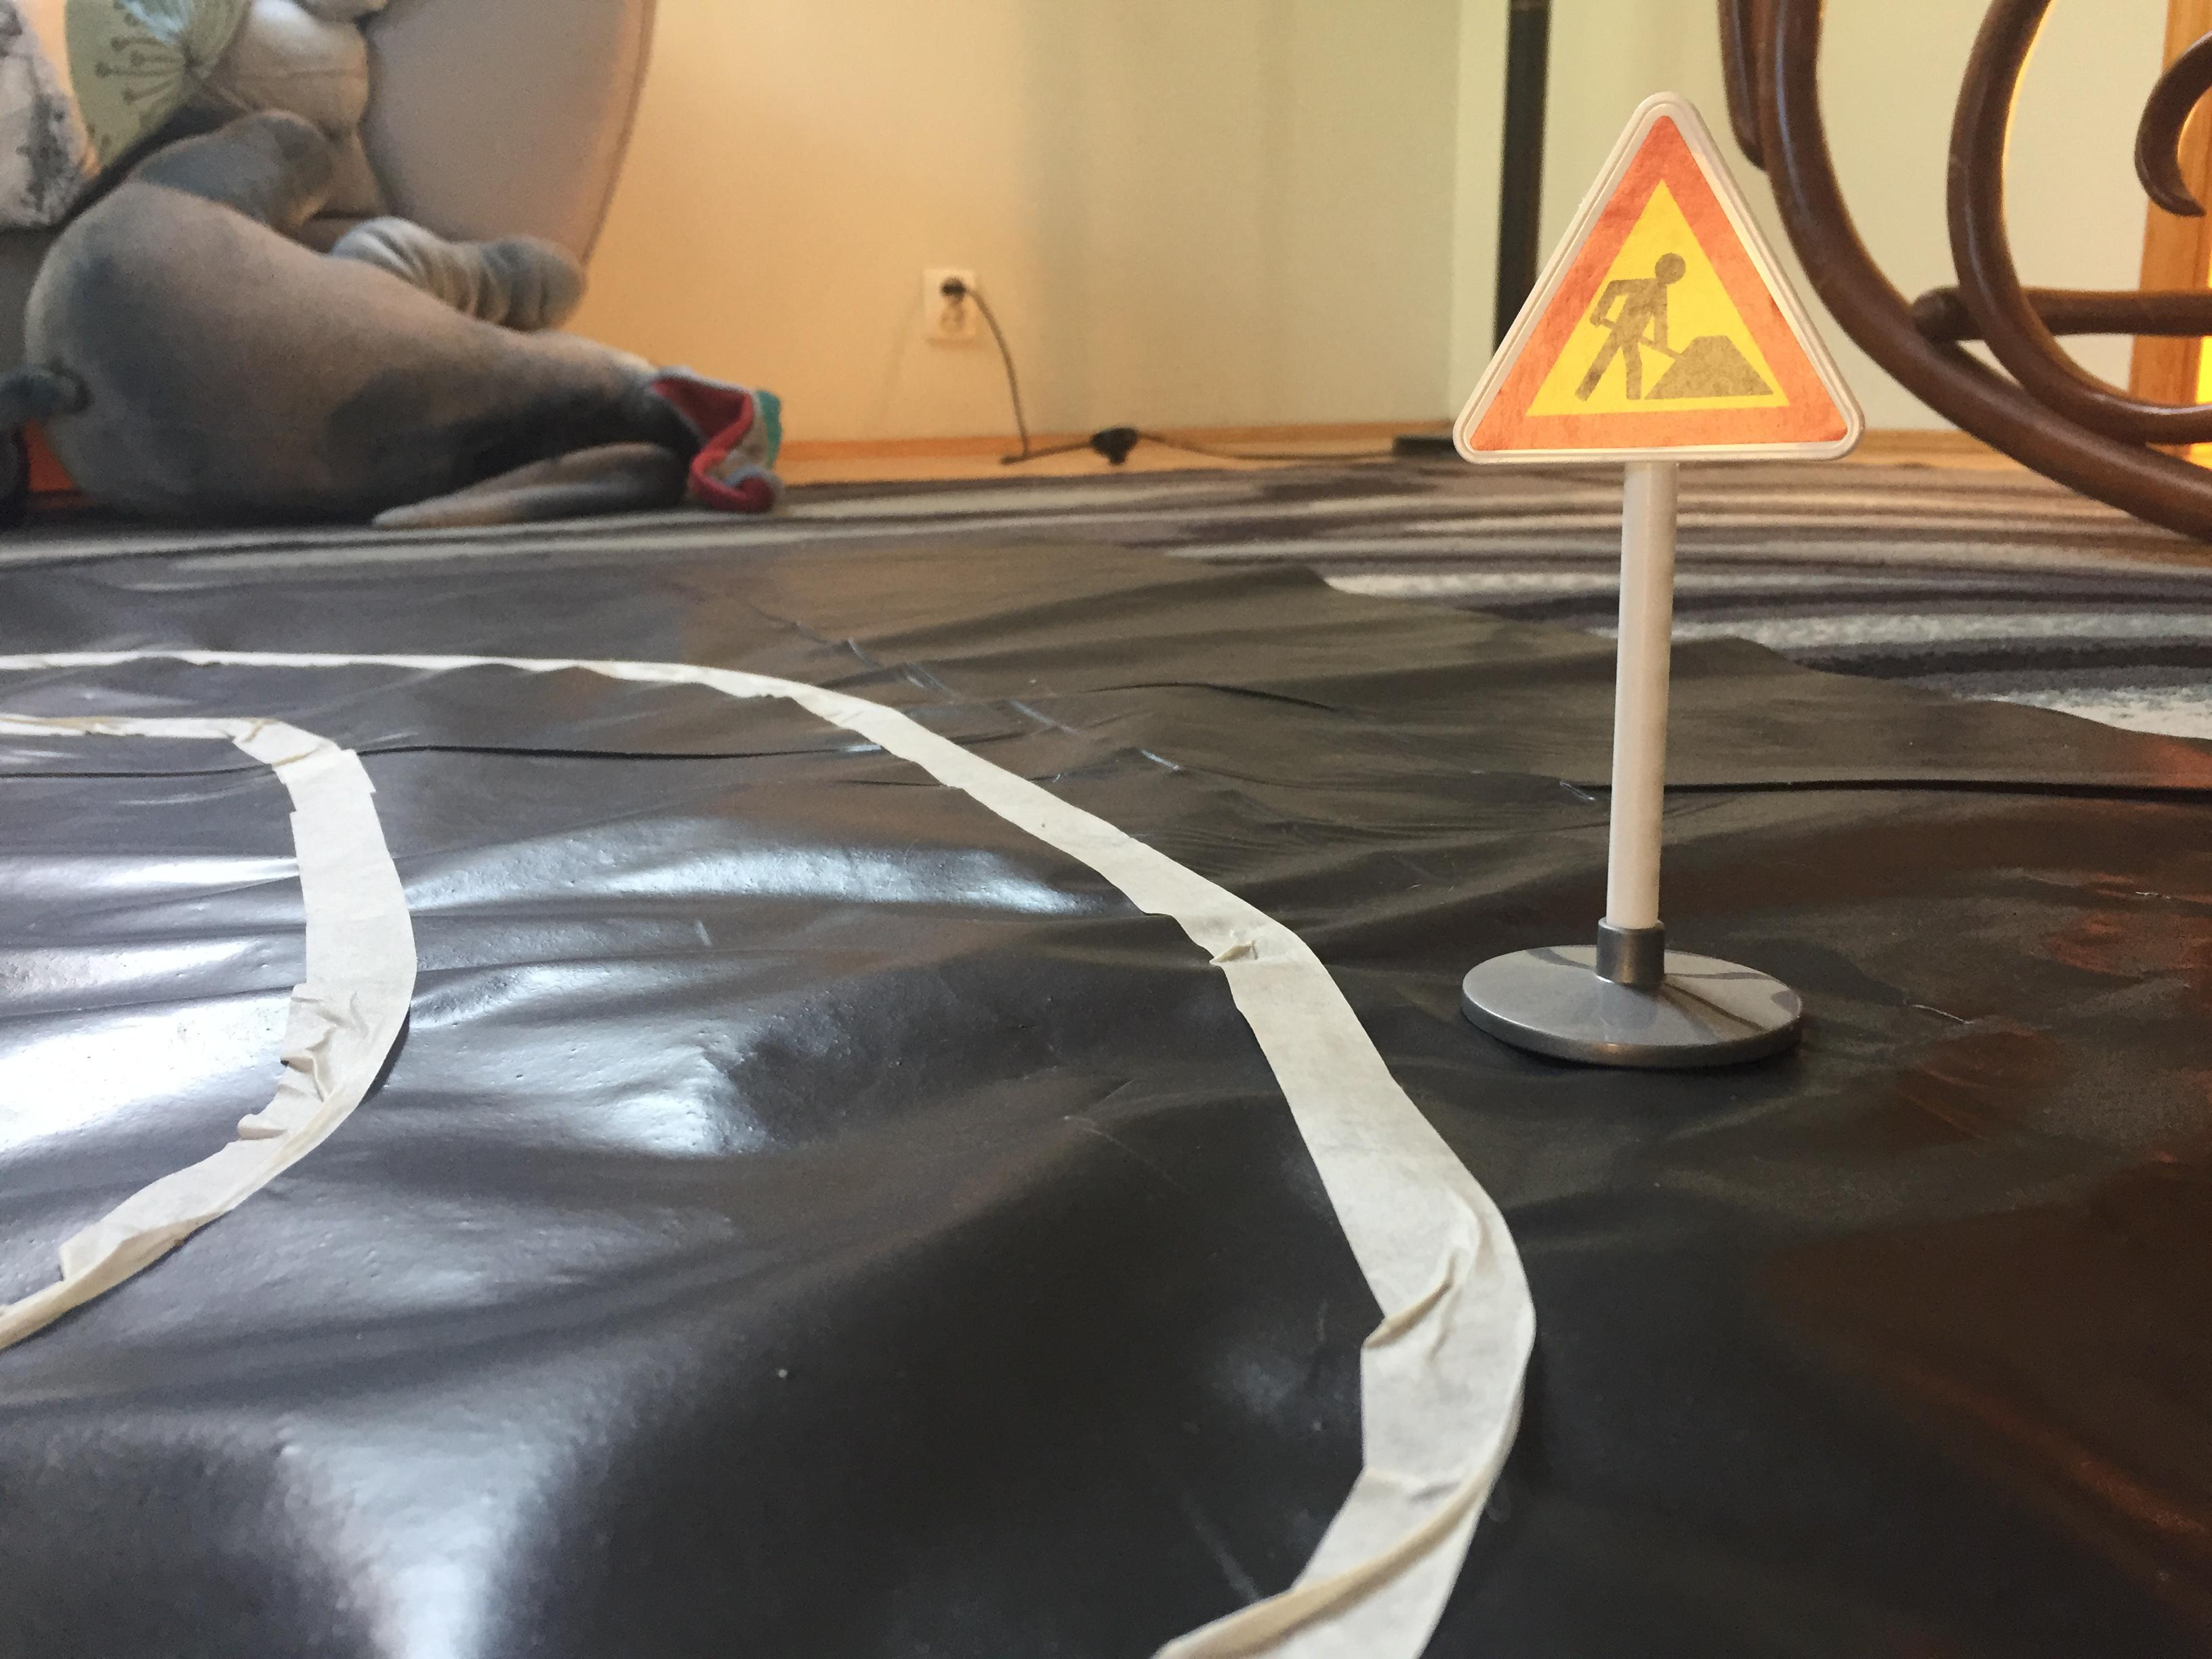work: (1446, 85, 1888, 474)
